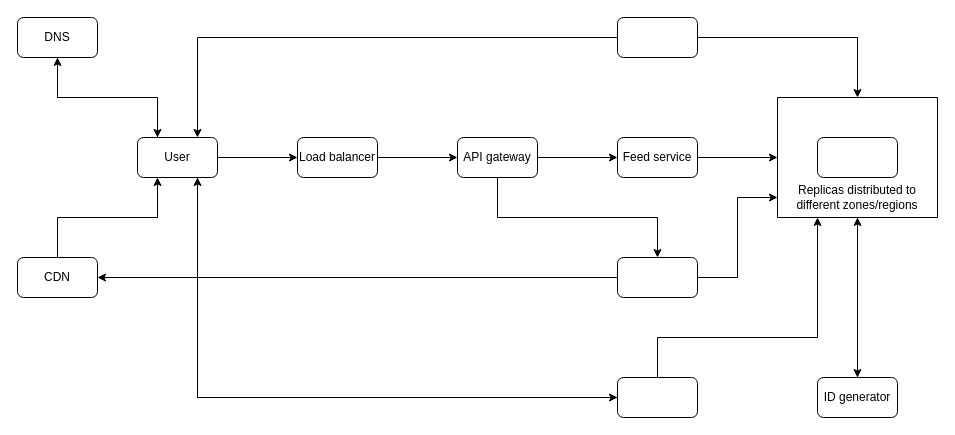
The diagram is 955 pixels wide and 435 high, and some of its shapes have lost their labels. Here are the shapes that lost their labels. From the top down, the centre of each, then its label:
At point (657, 37): "Notification service".
At point (857, 157): "DB".
At point (657, 277): "Video service".
At point (657, 397): "Messaging service".
